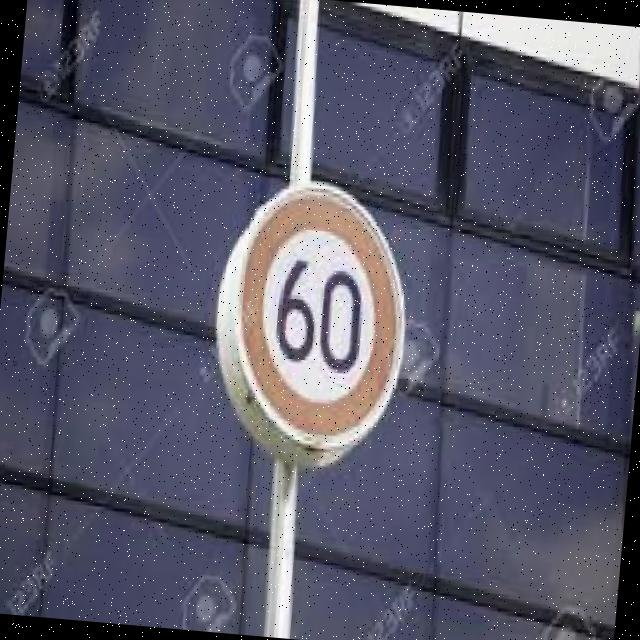Ograniczenie predkosci do 60: (222, 184, 411, 447)
